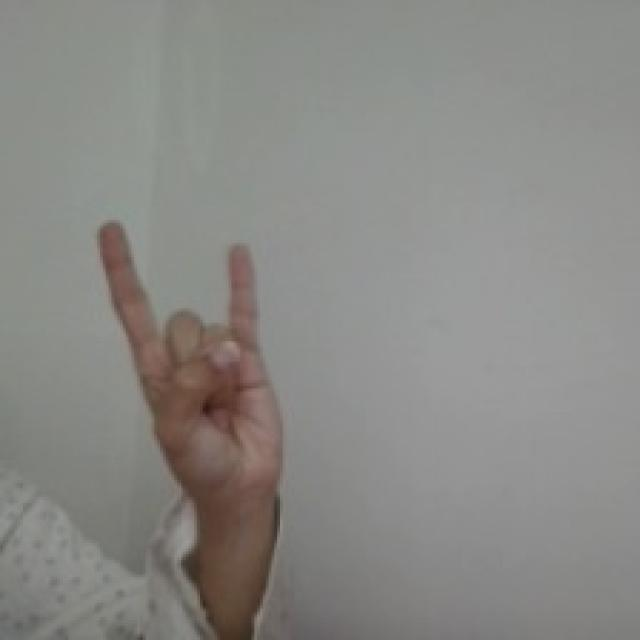No: (92, 217, 290, 500)
